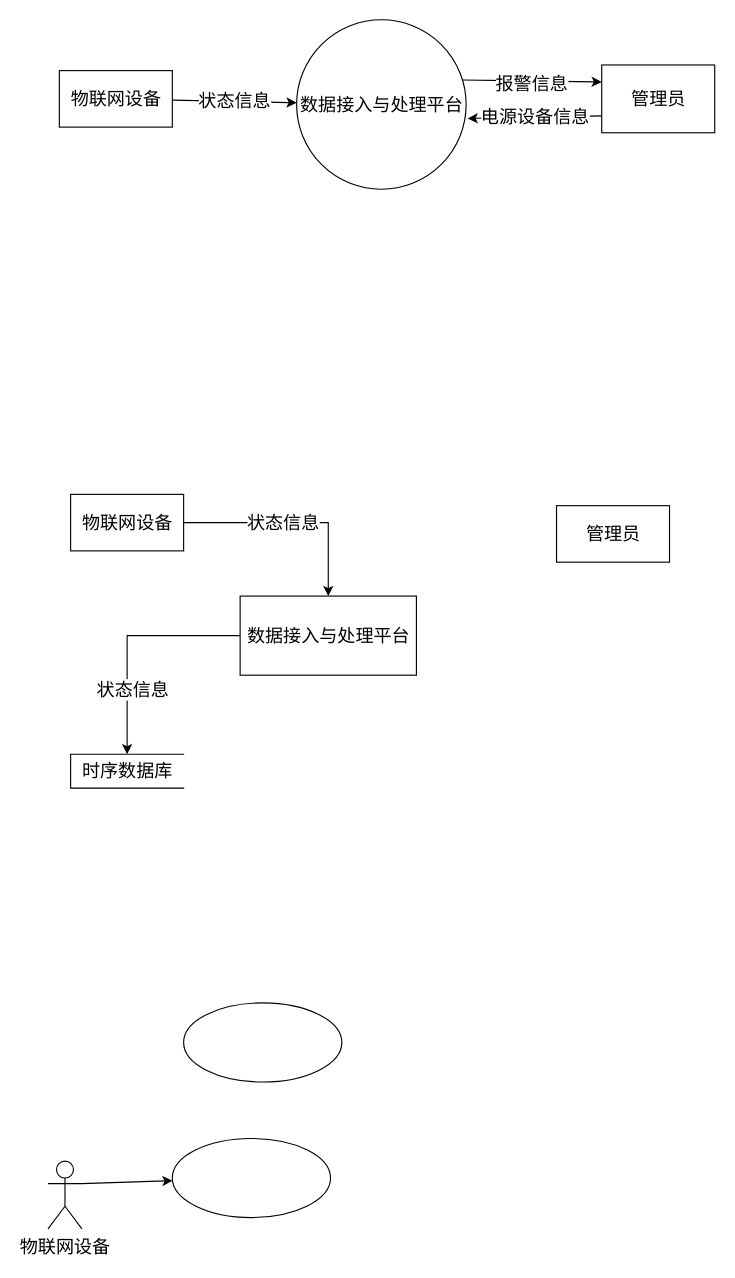
Image size: 735x1278. Some labels were removed from this diagram. Each missing label, with the centre of its shape:
Use Case: the point at 262,1042
数据接入与处理: the point at 251,1177
